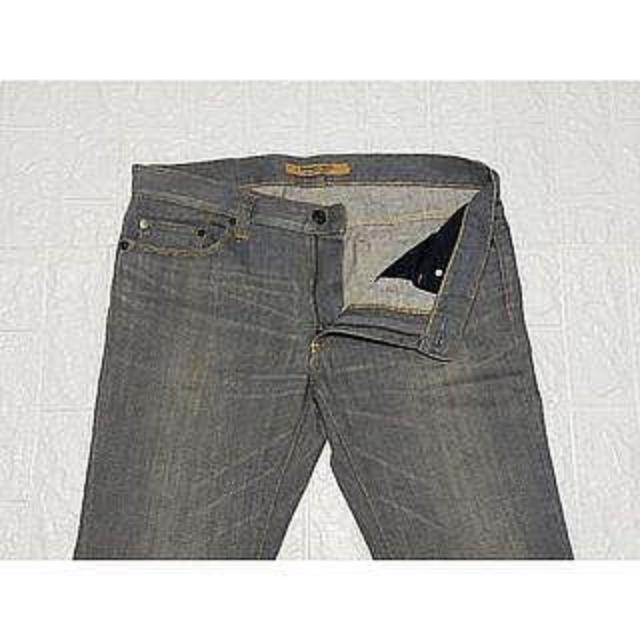TROUSER: (66, 146, 577, 559)
